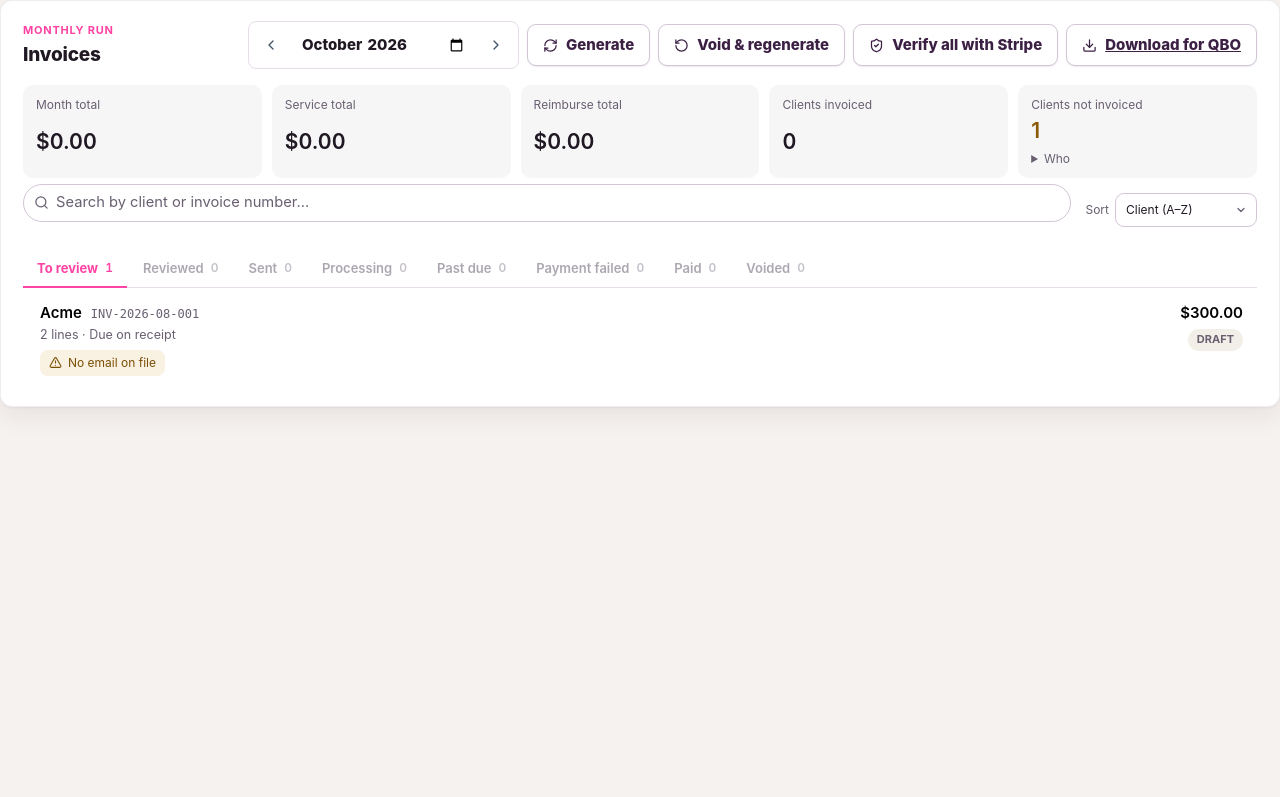
Scenario: InvoiceScopePanel — what it shows › shows the tag the entry already carries, so she can override it
Click the text "INV-2026-08-001" at (145, 315), box [91, 306, 199, 324]
(page scrolled)
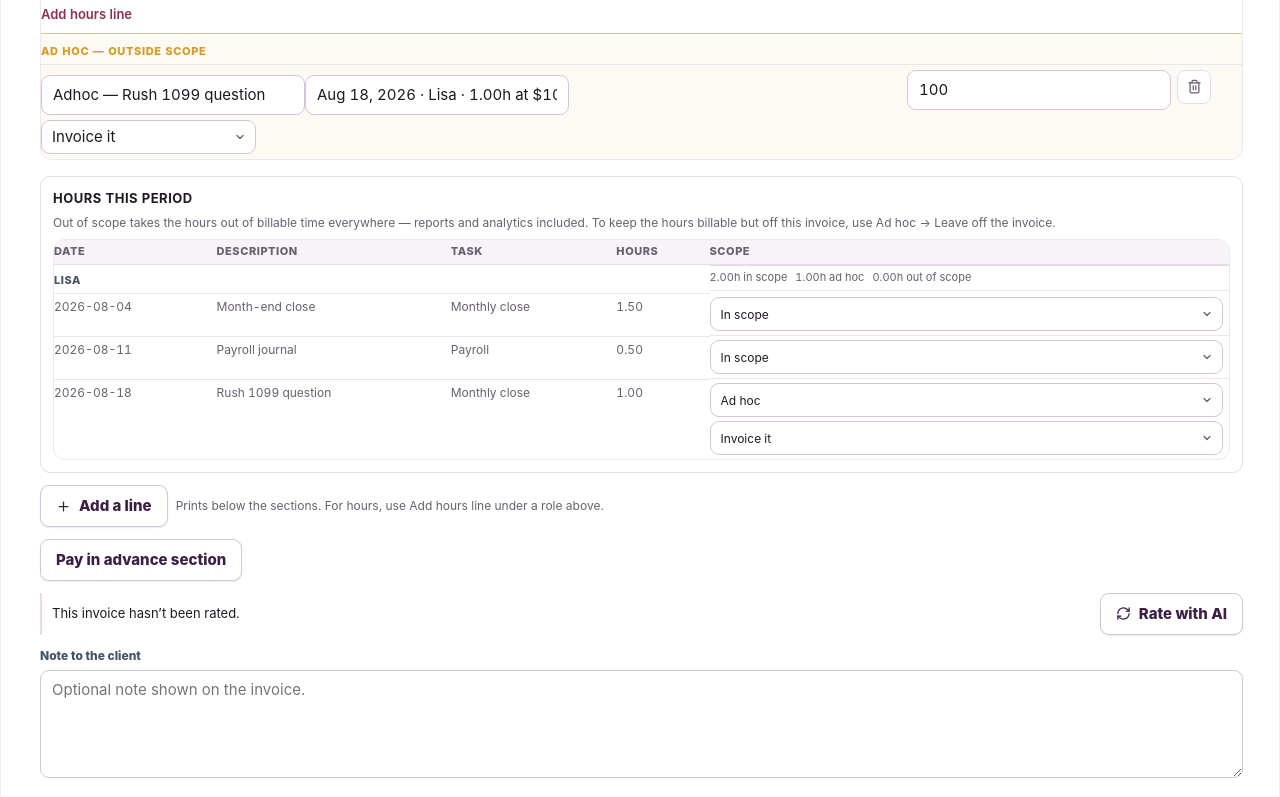
Expected: the dropdown named "Scope for Month-end close on 2026-08-04" shows "In scope", [710, 297, 1223, 331]
